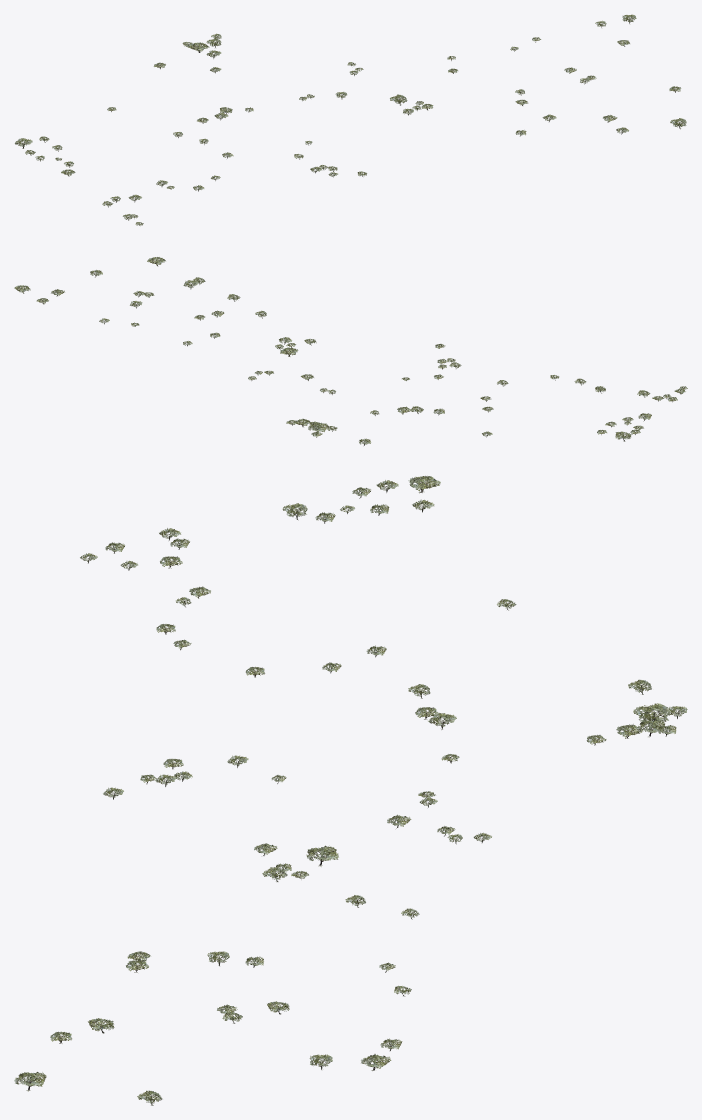
File: Arbol02.glb
The picture shows the model from 3 angles, top to bottom: view 1: azimuth 30°, elevation 25°; view 2: azimuth 150°, elevation 25°; view 3: azimuth 270°, elevation 25°; orthographic projection. The views are drawn at different scales.
Visible parts, largest first — view 1: Arbol02Web; view 2: Arbol02Web; view 3: Arbol02Web.
Boxes of the visible parts, bbox=[...] form: Arbol02Web: bbox=[14, 14, 686, 225]; Arbol02Web: bbox=[14, 257, 687, 445]; Arbol02Web: bbox=[14, 476, 687, 1105].
Size of the model in its own units: 314 by 24.77 by 157.
Materials: 1 (1 with a texture image).
